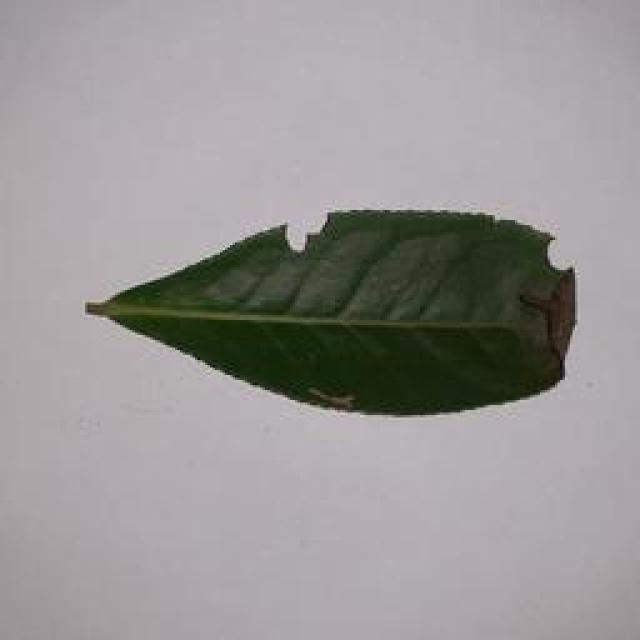Brown Blight: (56, 196, 622, 418)
